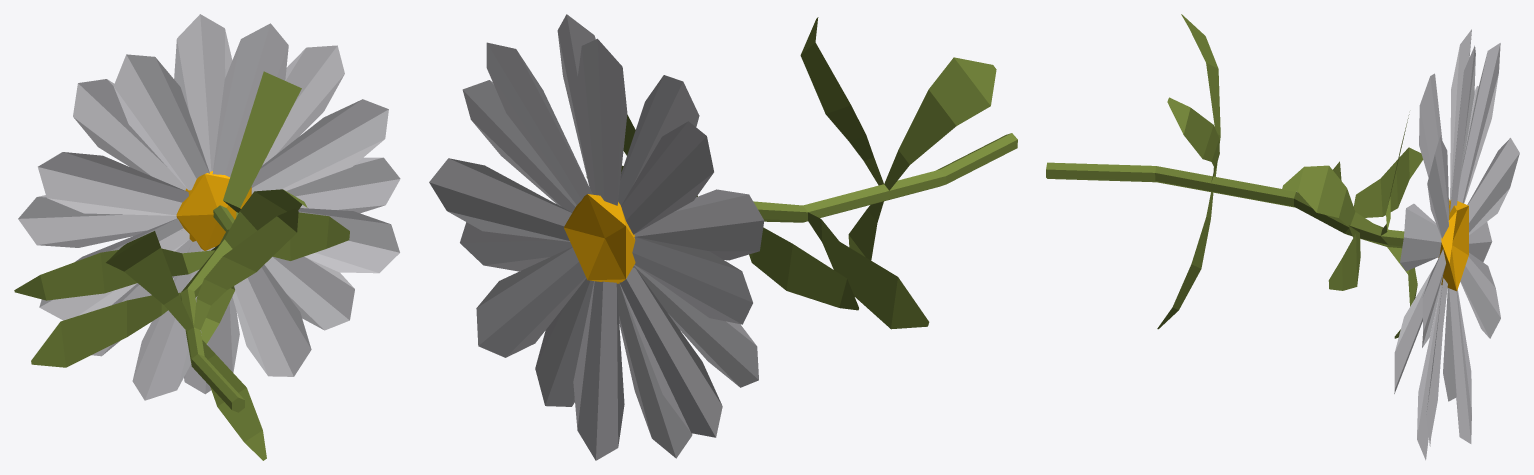
The model's file is flower1.gltf.
The picture shows the model from 3 angles, left to right: view 1: azimuth 30°, elevation 25°; view 2: azimuth 150°, elevation 25°; view 3: azimuth 270°, elevation 25°; orthographic projection. The views are drawn at different scales.
Parts seen in each view (by area): view 1: margarita_flower; view 2: margarita_flower; view 3: margarita_flower.
Part boxes in pixels (<box>): margarita_flower: <box>14,14,400,460</box>; margarita_flower: <box>429,14,1017,460</box>; margarita_flower: <box>1046,14,1519,460</box>.
Size of the model in its own units: 2.53 by 2.25 by 2.43.
